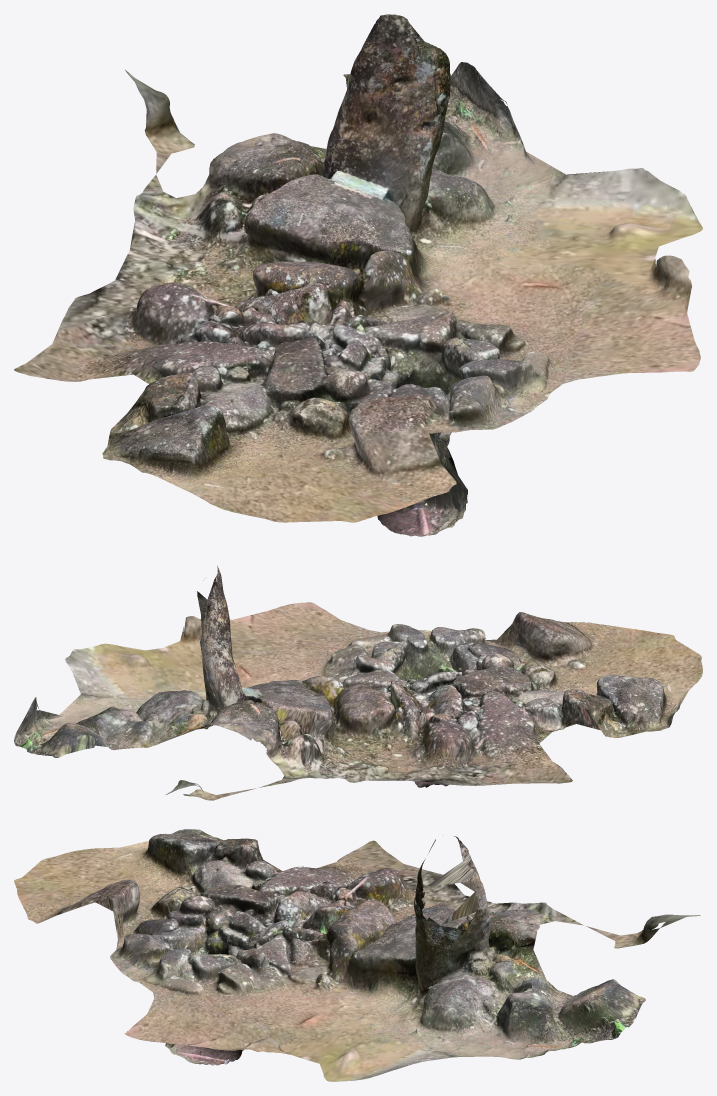
The model's file is sumur.glb.
3 renders of one model, top to bottom at view 1: azimuth 30°, elevation 25°; view 2: azimuth 150°, elevation 25°; view 3: azimuth 270°, elevation 25°, orthographic. The views are drawn at different scales.
Parts seen in each view (by area): view 1: mesh; view 2: mesh; view 3: mesh.
Part boxes in pixels (x1=…): mesh: x1=14, y1=14, x2=702, y2=536; mesh: x1=14, y1=566, x2=702, y2=800; mesh: x1=14, y1=829, x2=700, y2=1081.
Size of the model in its own units: 4.31 by 2.17 by 4.94.
1 material, 1 textured.
